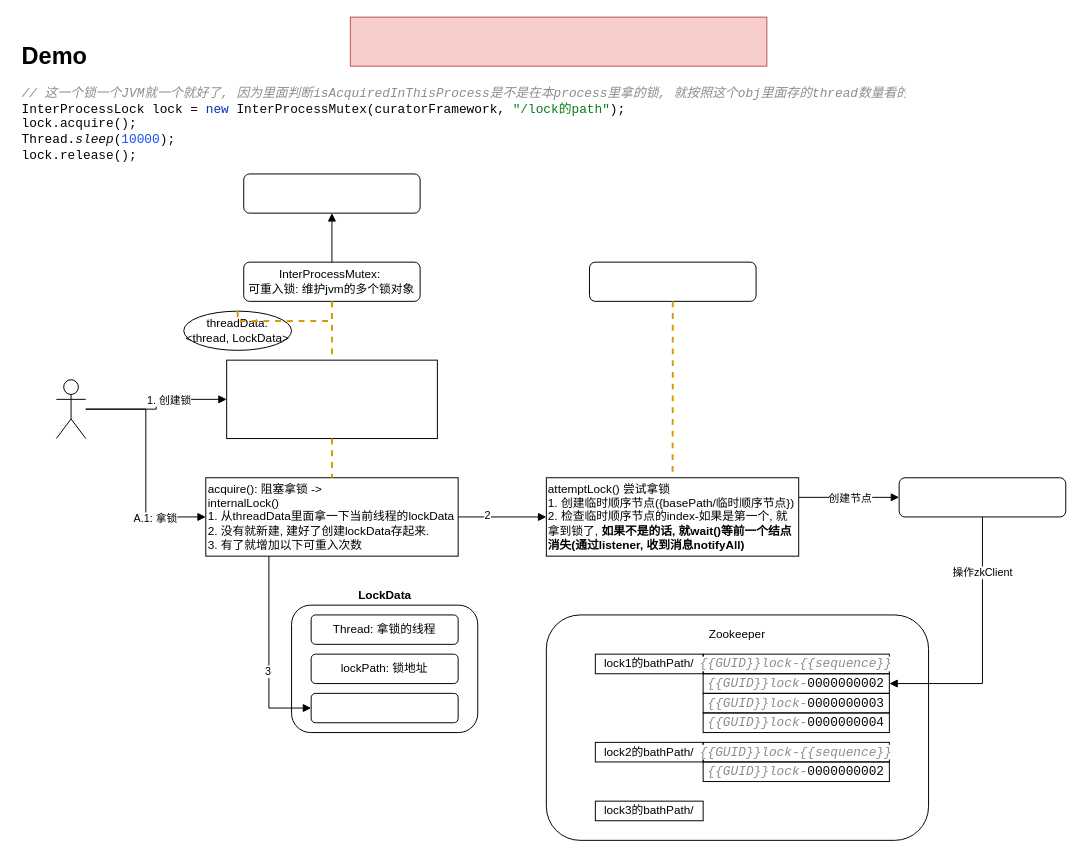
Some shapes in this 1083 by 858 pixel diagram are drawn without their labels. Here are the shapes that lost their labels. From the top down, the centre of each, then its label:
the point at 558,41: Curator的ZK可重入锁公平实现: 利用zk的临时顺序节点和可靠性保证锁的可靠性
the point at 331,193: InterProcessLock: 跨process的锁接口
the point at 672,281: LockInternal: 具体上锁的
the point at 70,409: Actor
the point at 331,399: 创建keyName级别的InterProcessMutex 构造器: 1. 存好basePath(lock的地址) 2. 指定lockInternal, 不重要
the point at 982,497: StandardLockInternalDriver: 操作client的工具
the point at 384,707: lockCount: 可重入次数
